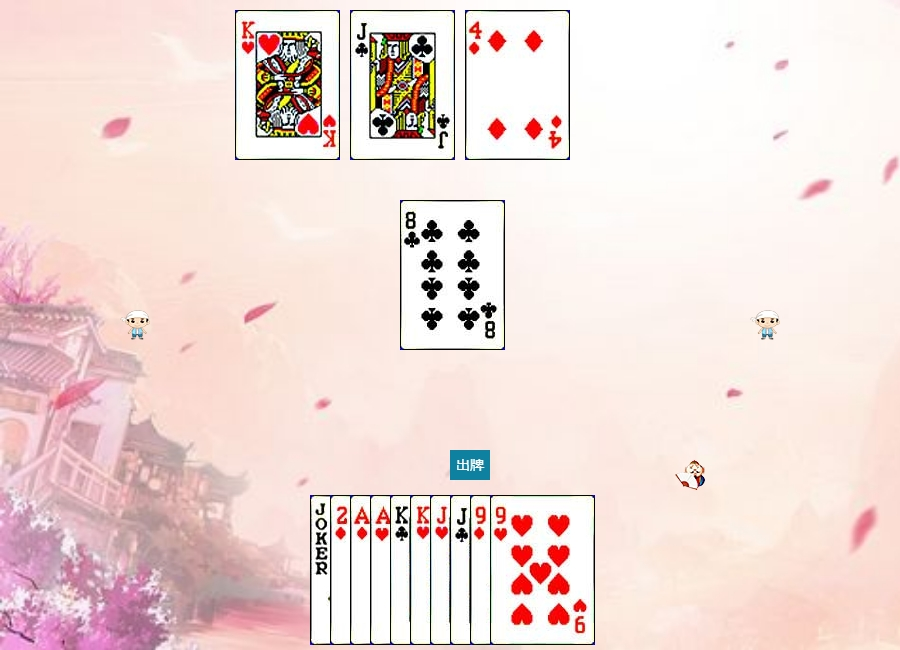11~2: (350, 10, 455, 160), (450, 495, 555, 645)
11~3: (430, 495, 535, 645)
13~2: (390, 495, 495, 645)
13~3: (235, 10, 340, 160), (410, 495, 515, 645)
14~1: (350, 495, 455, 645)
14~3: (370, 495, 475, 645)
15~1: (330, 495, 435, 645)
17~3: (310, 495, 415, 645)
4~1: (465, 10, 570, 160)
8~2: (400, 200, 505, 350)
9~1: (470, 495, 575, 645)
9~3: (490, 495, 595, 645)
